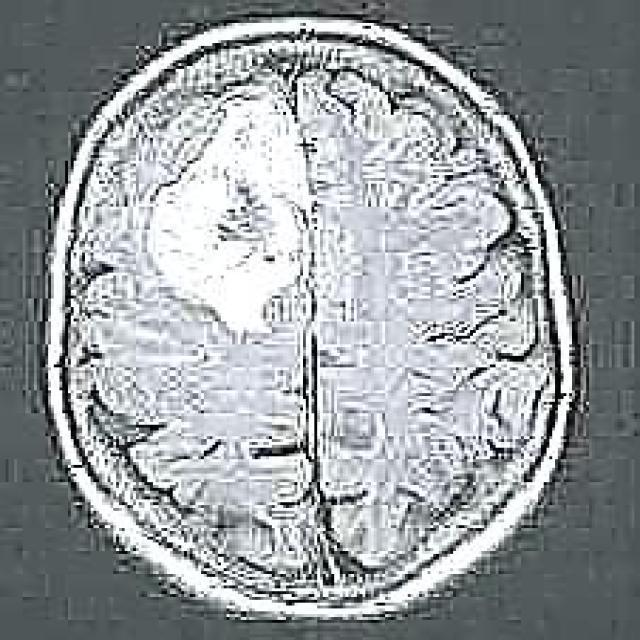brain tumor: (147, 95, 314, 342)
